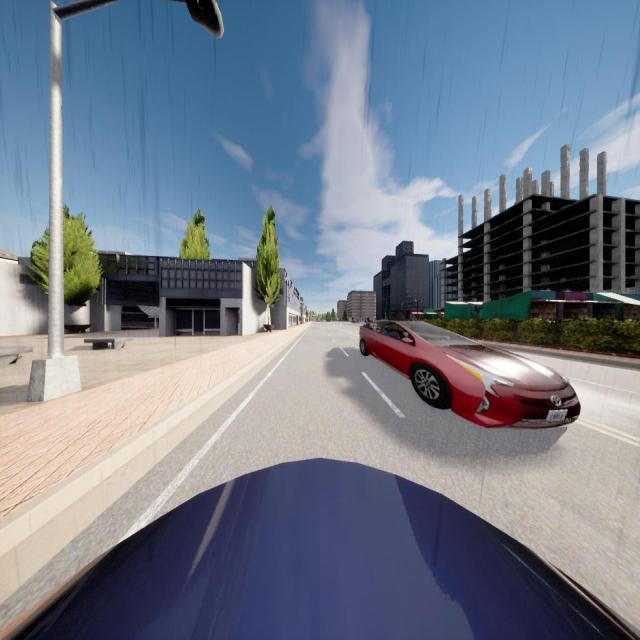Vehicle: (0, 454, 640, 640), (358, 318, 580, 427)
